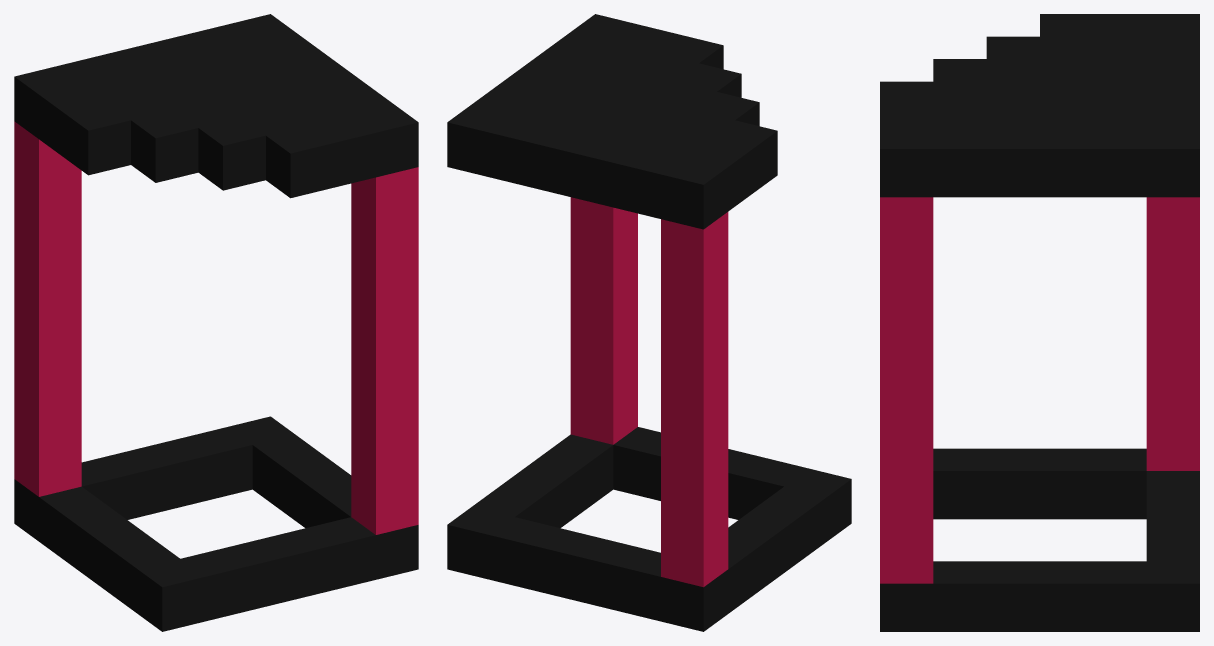
Rendered from chair1.obj.
3 views of the same model, side by side, from view 1: azimuth 30°, elevation 25°; view 2: azimuth 150°, elevation 25°; view 3: azimuth 270°, elevation 25° (orthographic). The views are drawn at different scales.
Parts seen in each view (by area): view 1: chair1; view 2: chair1; view 3: chair1.
Part boxes in pixels (bbox=[...]): chair1: bbox=[14, 14, 418, 631]; chair1: bbox=[447, 14, 851, 631]; chair1: bbox=[880, 14, 1199, 631].
Bounding box in the file's own units: 6 × 10 × 6.
1 material, 1 textured.
